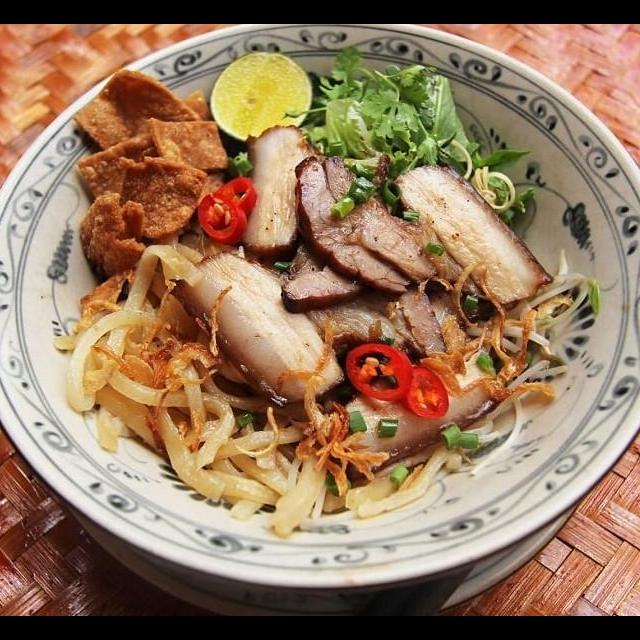banh da: (68, 65, 220, 160), (71, 132, 193, 240), (109, 154, 211, 243), (73, 187, 151, 283), (143, 114, 234, 175)
mi: (45, 239, 240, 475), (143, 404, 466, 542)
mi quang: (0, 51, 640, 616)
thit heo: (170, 248, 451, 412), (310, 286, 512, 492), (288, 148, 483, 298), (387, 161, 559, 308), (236, 121, 342, 263), (274, 230, 373, 318)
